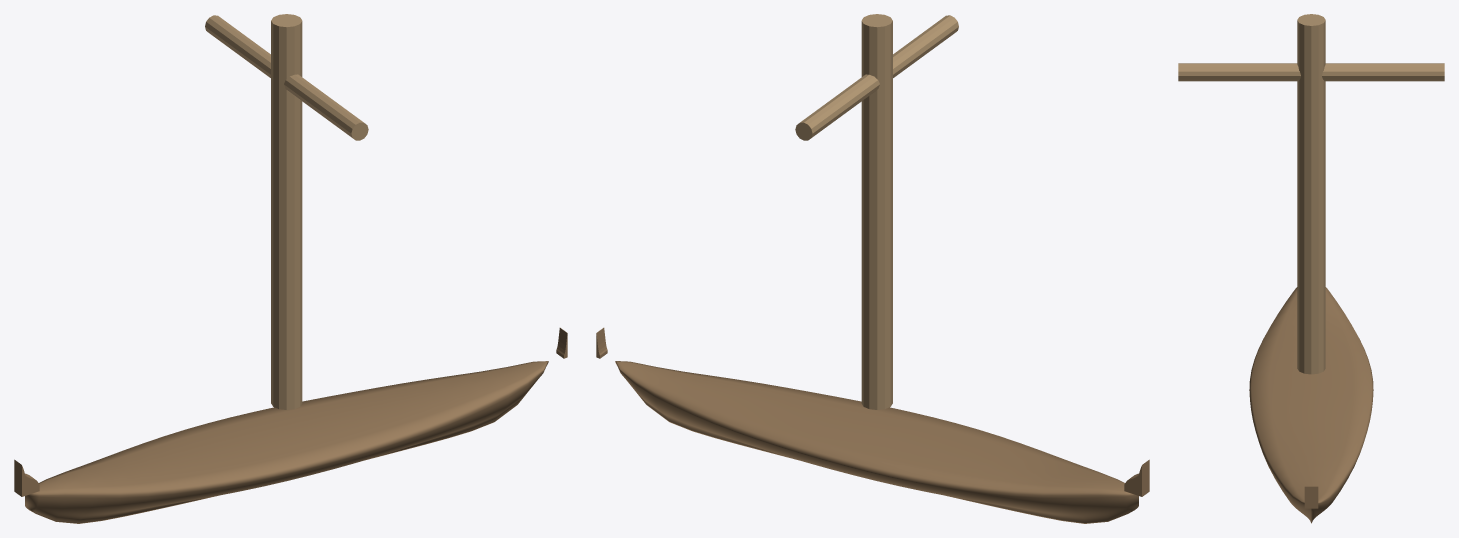
Rendered from hull-true.glb.
The picture shows the model from 3 angles, left to right: view 1: azimuth 30°, elevation 25°; view 2: azimuth 150°, elevation 25°; view 3: azimuth 270°, elevation 25°; orthographic projection. The views are drawn at different scales.
Visible parts, largest first — view 1: hull, Cylinder, Cylinder.001, posts; view 2: hull, Cylinder, Cylinder.001, posts; view 3: hull, Cylinder, Cylinder.001, posts.
Boxes of the visible parts, x1,y1,x2,y2 form: hull: [25, 361, 548, 523]; Cylinder: [271, 14, 302, 409]; Cylinder.001: [205, 15, 368, 140]; posts: [14, 327, 567, 496]; hull: [615, 361, 1138, 523]; Cylinder: [861, 14, 892, 409]; Cylinder.001: [795, 15, 958, 140]; posts: [596, 327, 1149, 496]; hull: [1249, 287, 1373, 523]; Cylinder: [1297, 14, 1325, 374]; Cylinder.001: [1178, 63, 1444, 81]; posts: [1304, 486, 1318, 508].
Size of the model in its own units: 0.8863 by 0.7128 by 0.4119.
